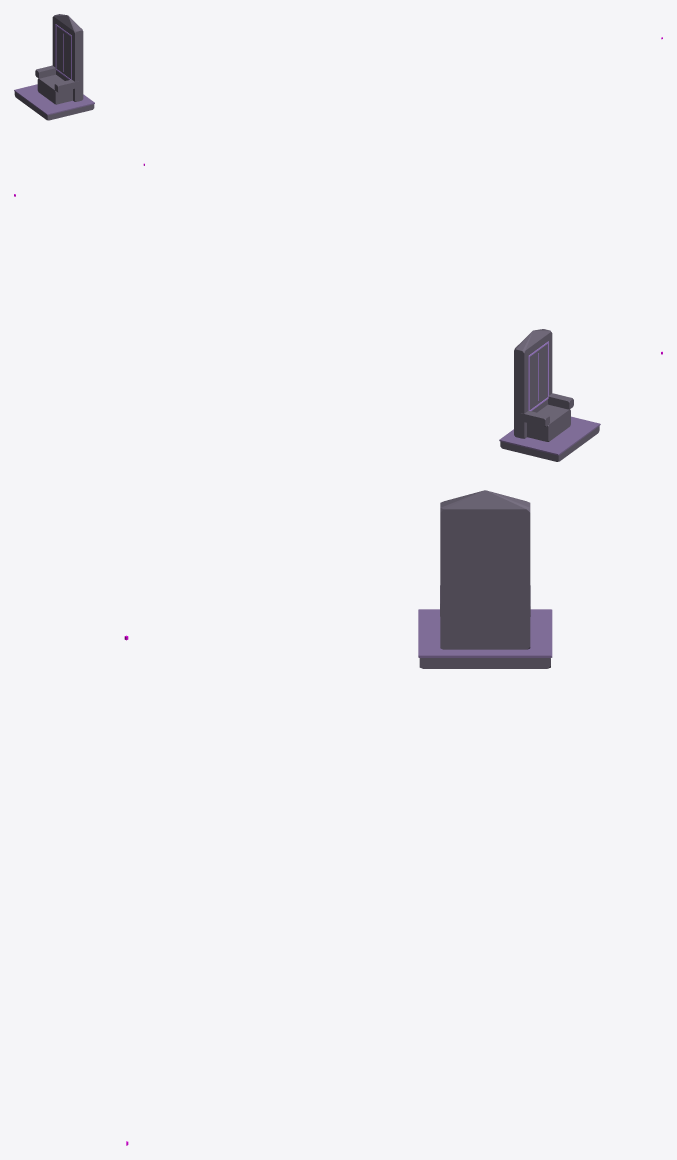
The model's file is Throne.glb.
3 renders of one model, top to bottom at view 1: azimuth 30°, elevation 25°; view 2: azimuth 150°, elevation 25°; view 3: azimuth 270°, elevation 25°, orthographic. The views are drawn at different scales.
Parts seen in each view (by area): view 1: Throne_Stone, Throne_Trim; view 2: Throne_Stone, Throne_Trim; view 3: Throne_Stone, Throne_Trim.
Part boxes in pixels (x1,y1,x2,y2): Throne_Stone: (14,14,94,120); Throne_Trim: (14,84,94,115); Throne_Stone: (500,329,599,461); Throne_Trim: (499,416,600,455); Throne_Stone: (419,490,550,668); Throne_Trim: (418,609,552,657).
Bounding box in the file's own units: 105 × 15.6 × 35.75.
